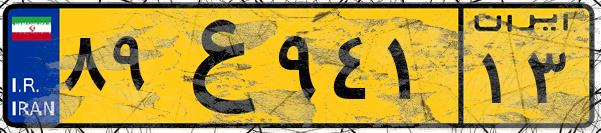1: (385, 28, 445, 110), (475, 38, 525, 113)
3: (525, 38, 570, 115)
4: (330, 28, 385, 110)
8: (57, 26, 110, 100)
9: (270, 28, 330, 110), (110, 28, 158, 98)
ع: (158, 12, 270, 120)
